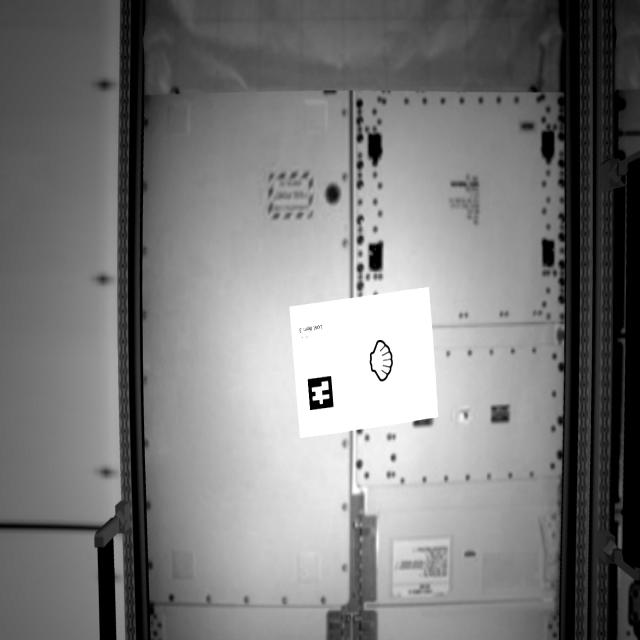shell: (358, 340, 401, 388)
